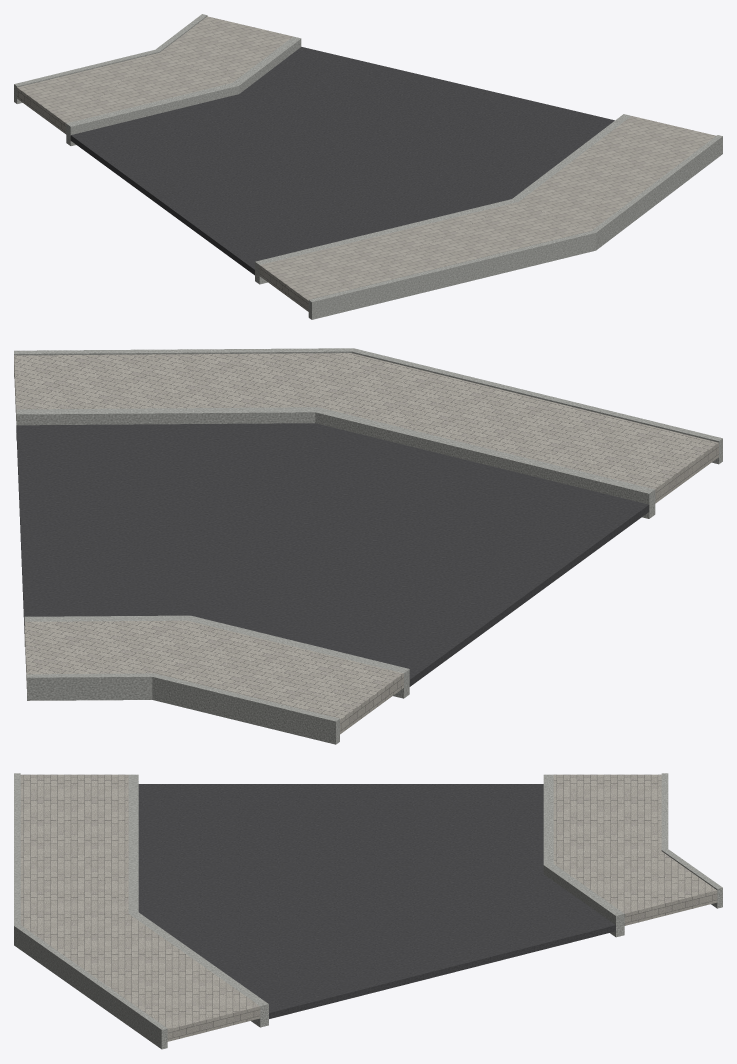
The picture shows the model from 3 angles, top to bottom: view 1: azimuth 30°, elevation 25°; view 2: azimuth 150°, elevation 25°; view 3: azimuth 270°, elevation 25°; orthographic projection. The views are drawn at different scales.
Visible parts, largest first — view 1: road.street (×3); view 2: road.street (×3); view 3: road.street (×3).
Part boxes in pixels (<box>): road.street (×3): <box>14,14,722,319</box>; road.street (×3): <box>14,348,722,744</box>; road.street (×3): <box>14,773,722,1049</box>.
Bounding box in the file's own units: 9 × 10.51 × 0.37.
Materials: 3 (3 with a texture image).
